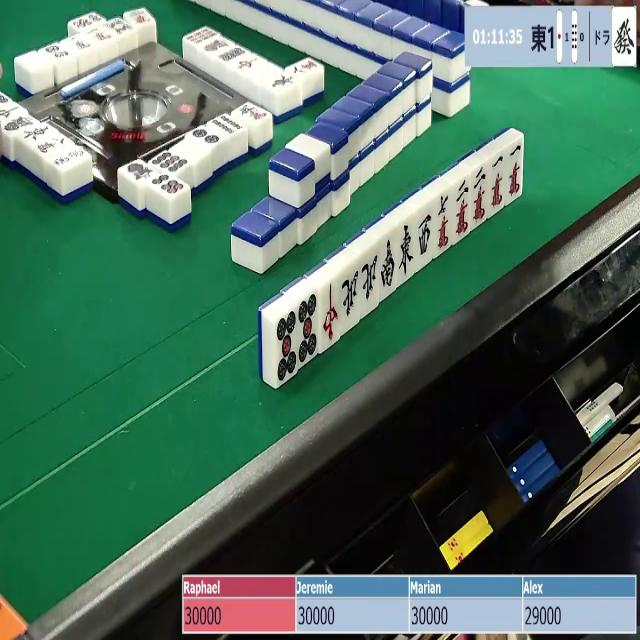1C: (508, 140, 524, 202), (490, 154, 505, 213)
2C: (454, 176, 472, 238), (473, 165, 489, 225)
5D: (275, 310, 297, 388), (297, 293, 319, 366)
7C: (436, 191, 456, 253)
EW: (397, 220, 415, 282)
GD: (614, 7, 640, 62)
NW: (340, 268, 359, 327), (360, 252, 378, 312)
RD: (319, 282, 341, 352)
SW: (380, 235, 396, 298)
WW: (416, 210, 436, 264)
